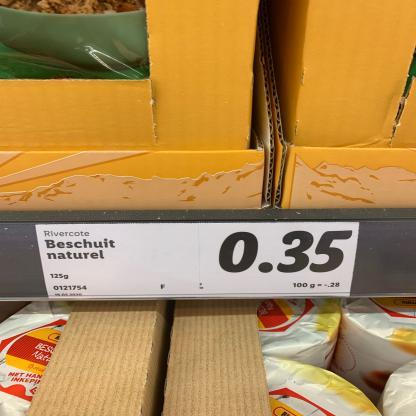prtg: (36, 223, 360, 299)
